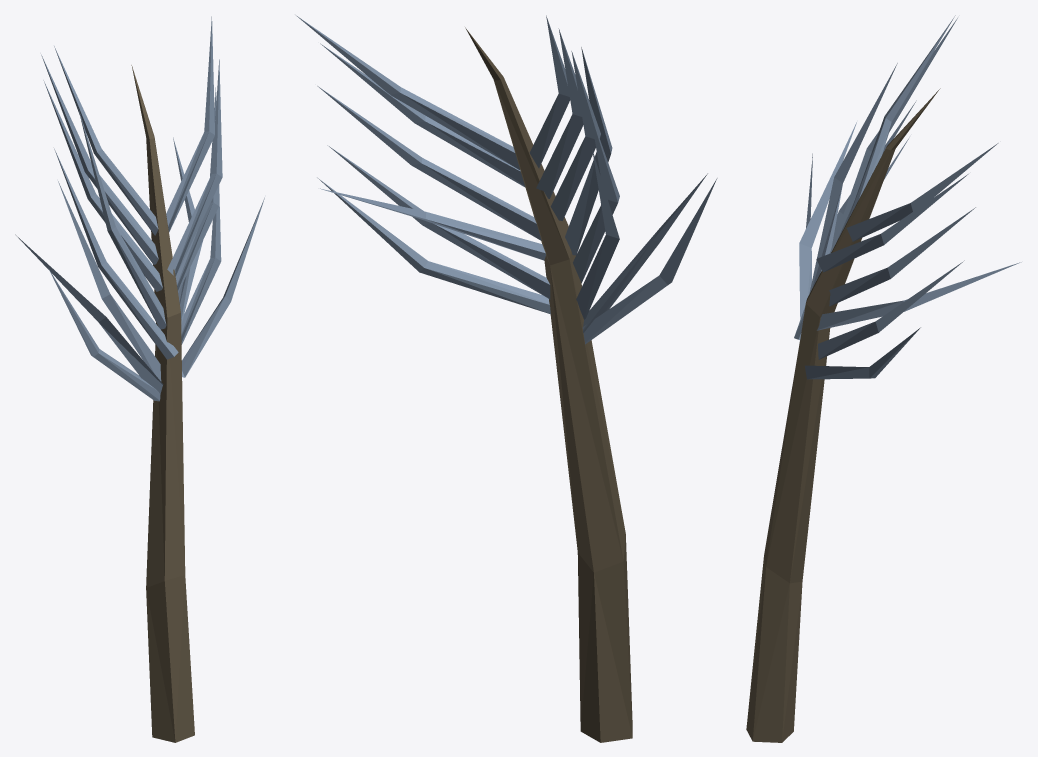
File: Blue_Spruce_1_2.fbx
3 renders of one model, left to right at view 1: azimuth 30°, elevation 25°; view 2: azimuth 150°, elevation 25°; view 3: azimuth 270°, elevation 25°, orthographic. The views are drawn at different scales.
Parts seen in each view (by area): view 1: Spurce_1_2; view 2: Spurce_1_2; view 3: Spurce_1_2.
Part boxes in pixels (x1,y1,x2,y2): Spurce_1_2: [15, 16, 264, 742]; Spurce_1_2: [296, 15, 717, 742]; Spurce_1_2: [746, 15, 1021, 742].
Bounding box in the file's own units: 49.33 × 107 × 38.27.
